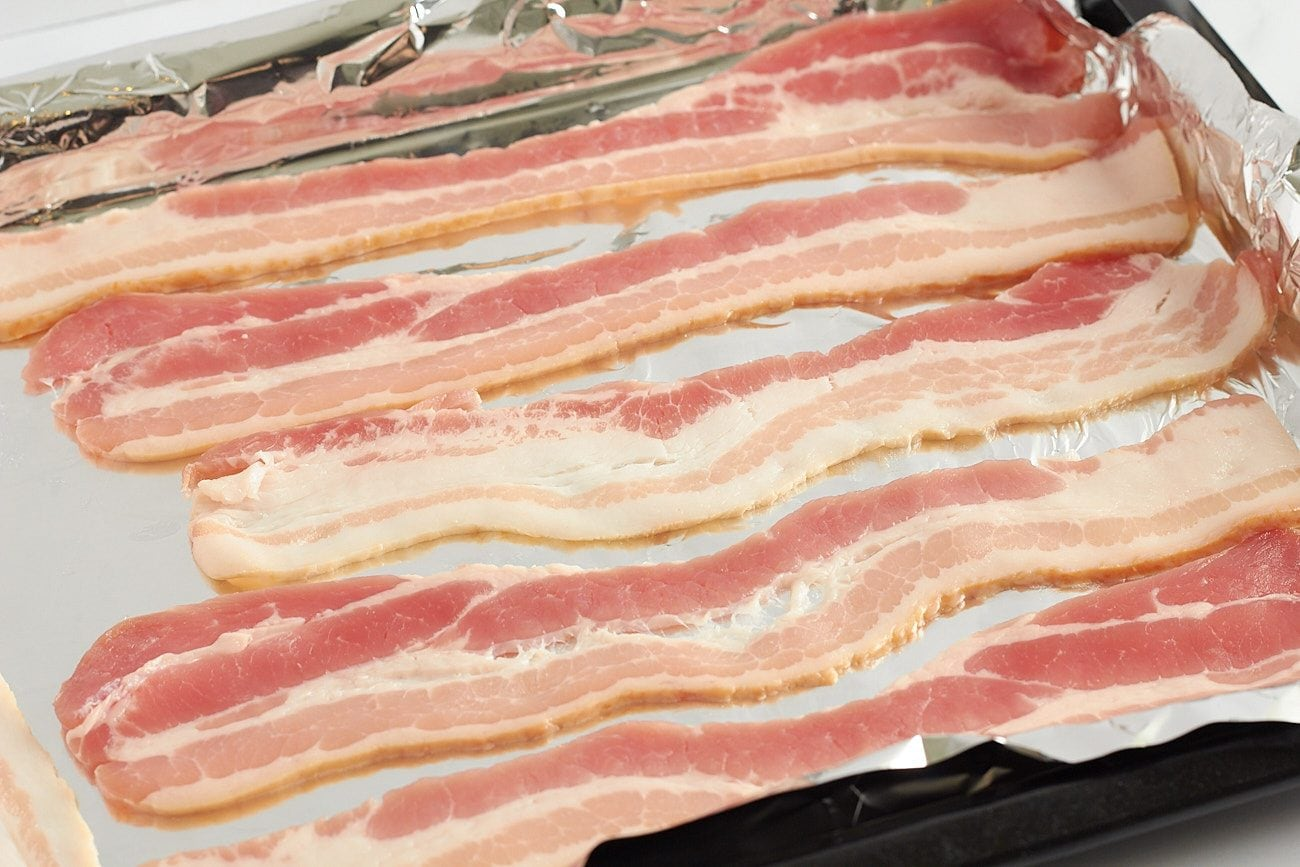bacon: (85, 117, 1276, 746)
